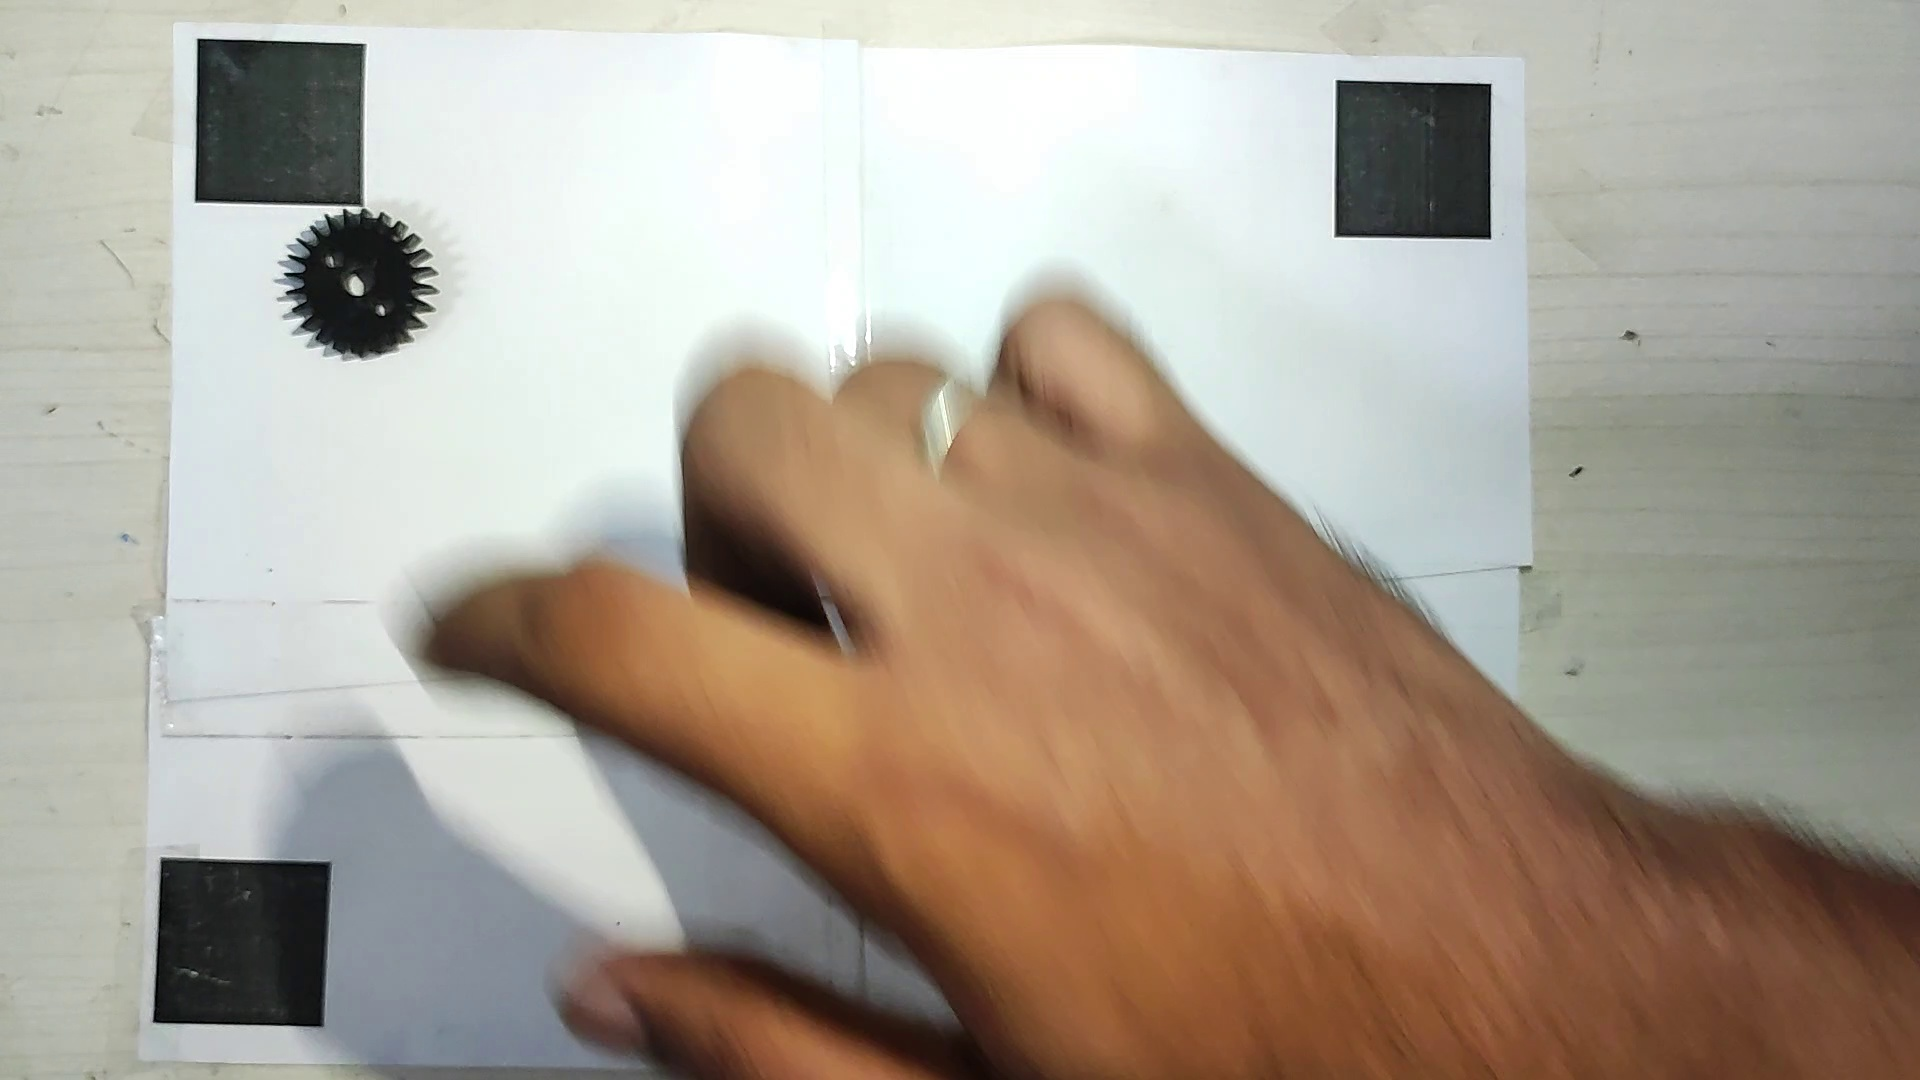Gear: (273, 189, 431, 357)
